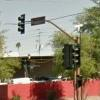Traffic light: (58, 31, 91, 81)
